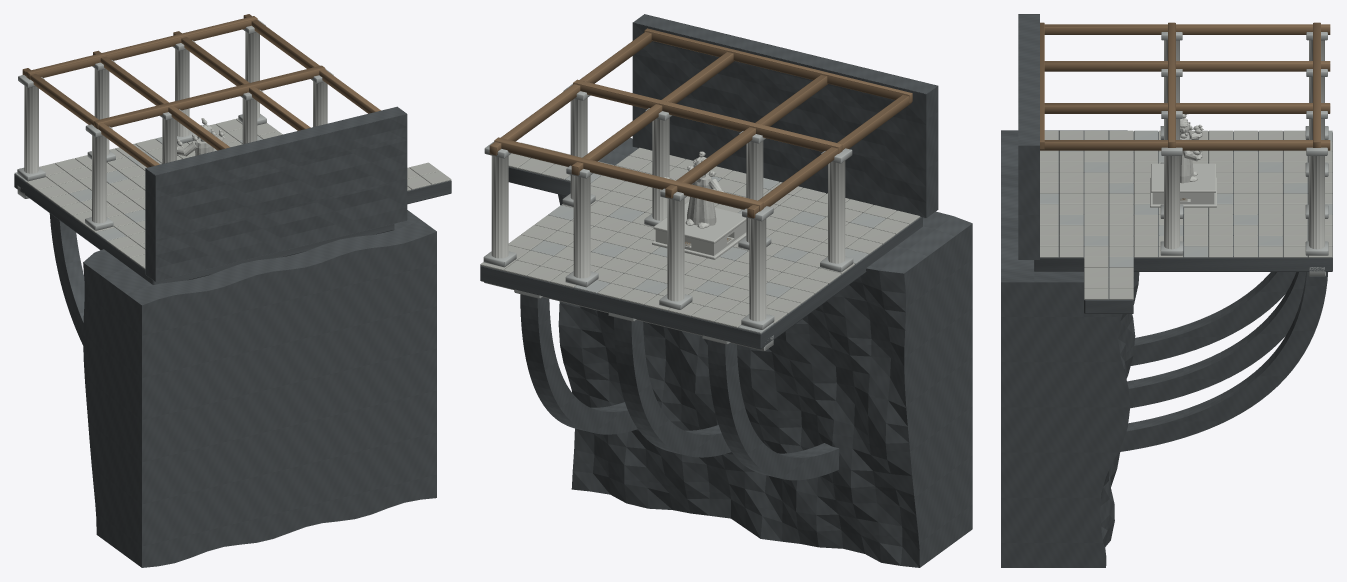
Rendered from retreat_global_a5.glb.
3 renders of one model, left to right at view 1: azimuth 30°, elevation 25°; view 2: azimuth 150°, elevation 25°; view 3: azimuth 270°, elevation 25°, orthographic. The views are drawn at different scales.
Parts seen in each view (by area): view 1: VTT_Cliff_Bounded_Anchor, CANON_North_Carved_Rock_Wall, CANON_Floor_Temple, CANON_Exposed_Timber_Frame, CANON_Arched_Support_-3, CANON_Column_-4.12_0.35, CANON_Column_-4.12_-4.02, CANON_Floor_East_Connection, CANON_Column_1.5_-4.02, CANON_Column_-1.5_-4.02, CANON_Column_4.12_-4.02, CANON_Column_1.5_0.35 (+2 smaller); view 2: VTT_Cliff_Bounded_Anchor, CANON_Floor_Temple, CANON_North_Carved_Rock_Wall, CANON_Exposed_Timber_Frame, CANON_Arched_Support_-3, CANON_Arched_Support_3, CANON_Arched_Support_0, CANON_Bahamut_Pedestal, CANON_Column_-4.12_-4.02, CANON_Column_-4.12_0.35, CANON_Column_4.12_-4.02, CANON_Column_1.5_-4.02 (+6 smaller); view 3: VTT_Cliff_Bounded_Anchor, CANON_Floor_Temple, CANON_Exposed_Timber_Frame, CANON_Arched_Support_3, CANON_Arched_Support_0, CANON_North_Carved_Rock_Wall, CANON_Arched_Support_-3, CANON_Floor_East_Connection, CANON_Bahamut_Pedestal, CANON_Column_4.12_-4.02, CANON_Column_4.12_0.35, CANON_Bahamut_Kind_Elder (+1 smaller).
Part boxes in pixels (x1,y1,x2,y2): VTT_Cliff_Bounded_Anchor: [83, 210, 436, 567]; CANON_North_Carved_Rock_Wall: [145, 106, 407, 281]; CANON_Floor_Temple: [14, 118, 394, 284]; CANON_Exposed_Timber_Frame: [22, 14, 380, 167]; CANON_Arched_Support_-3: [49, 213, 84, 345]; CANON_Column_-4.12_0.35: [85, 124, 113, 230]; CANON_Column_-4.12_-4.02: [17, 75, 45, 181]; CANON_Floor_East_Connection: [407, 162, 451, 204]; CANON_Column_1.5_-4.02: [173, 40, 196, 143]; CANON_Column_-1.5_-4.02: [87, 60, 115, 161]; CANON_Column_4.12_-4.02: [238, 19, 266, 125]; CANON_Column_1.5_0.35: [240, 89, 263, 144]; VTT_Cliff_Bounded_Anchor: [558, 137, 972, 567]; CANON_Floor_Temple: [480, 147, 922, 349]; CANON_North_Carved_Rock_Wall: [632, 14, 938, 218]; CANON_Exposed_Timber_Frame: [489, 28, 912, 218]; CANON_Arched_Support_-3: [702, 335, 839, 480]; CANON_Arched_Support_3: [514, 289, 637, 434]; CANON_Arched_Support_0: [608, 312, 731, 457]; CANON_Bahamut_Pedestal: [652, 201, 746, 259]; CANON_Column_-4.12_-4.02: [741, 206, 774, 329]; CANON_Column_-4.12_0.35: [820, 148, 853, 272]; CANON_Column_4.12_-4.02: [483, 141, 516, 267]; CANON_Column_1.5_-4.02: [565, 165, 598, 287]; VTT_Cliff_Bounded_Anchor: [1001, 130, 1139, 567]; CANON_Floor_Temple: [1034, 130, 1332, 271]; CANON_Exposed_Timber_Frame: [1040, 22, 1330, 150]; CANON_Arched_Support_3: [1118, 272, 1327, 452]; CANON_Arched_Support_0: [1127, 272, 1306, 408]; CANON_North_Carved_Rock_Wall: [1018, 14, 1039, 259]; CANON_Arched_Support_-3: [1131, 272, 1296, 365]; CANON_Floor_East_Connection: [1084, 257, 1133, 313]; CANON_Bahamut_Pedestal: [1150, 163, 1216, 207]; CANON_Column_4.12_-4.02: [1305, 147, 1328, 255]; CANON_Column_4.12_0.35: [1160, 147, 1183, 255]; CANON_Bahamut_Kind_Elder: [1180, 118, 1202, 183].
Size of the model in its own units: 13 by 13.7 by 10.
8 materials, 1 textured.
